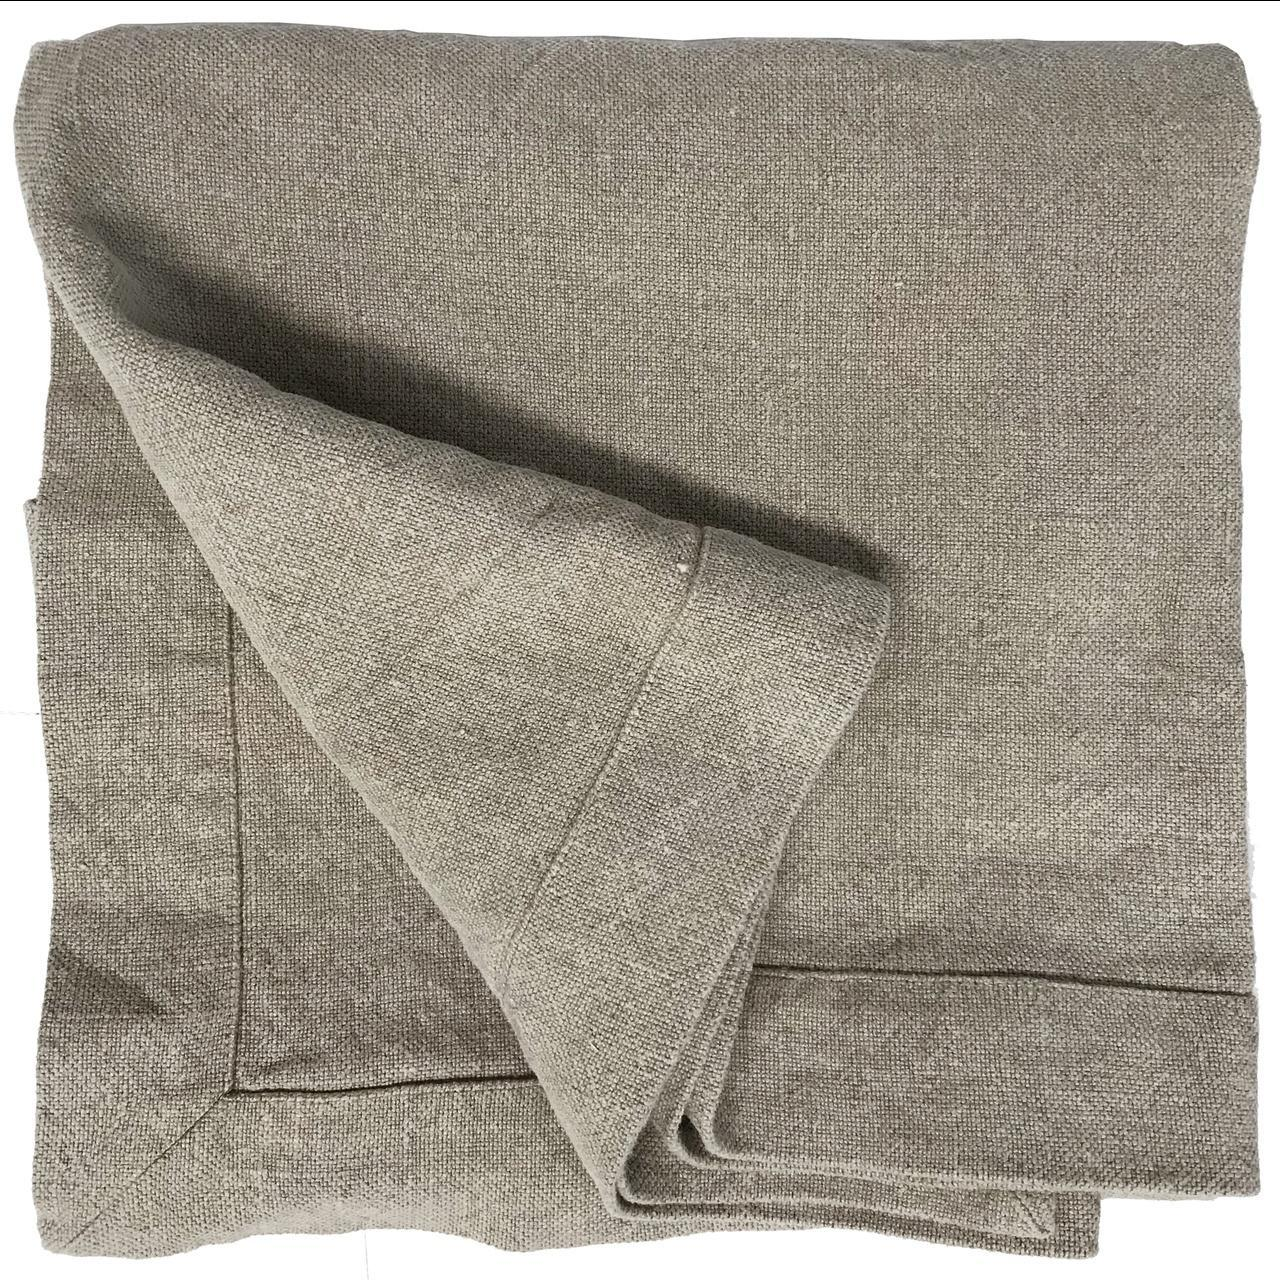towel: (13, 0, 1280, 1280)
